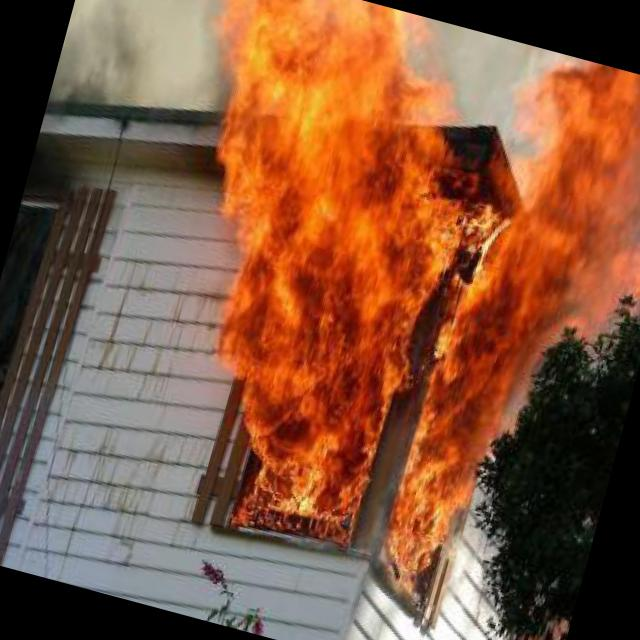fire: (133, 0, 479, 543), (363, 37, 640, 615)
smoke: (43, 0, 236, 154)
